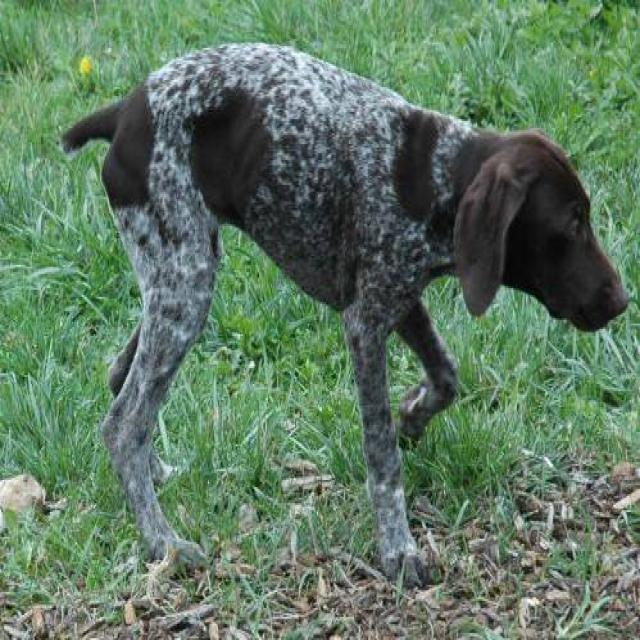dogs: (63, 42, 639, 616)
